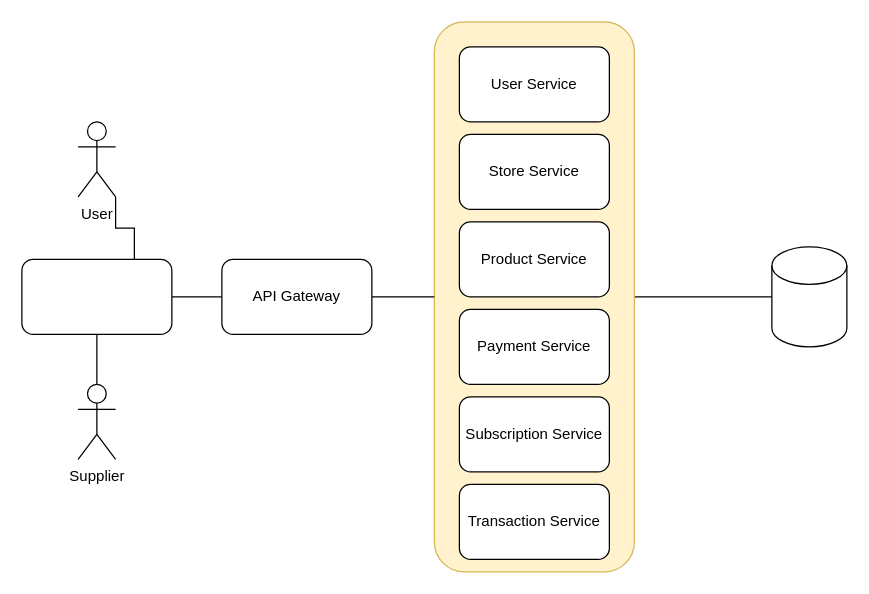
This 869x594 diagram has some shape labels left out. The shapes that lost their labels are listed below. From the top down, each one's centre as x and y in pixels, then its label:
At point (96, 296): "Apps".
At point (809, 296): "DB".
